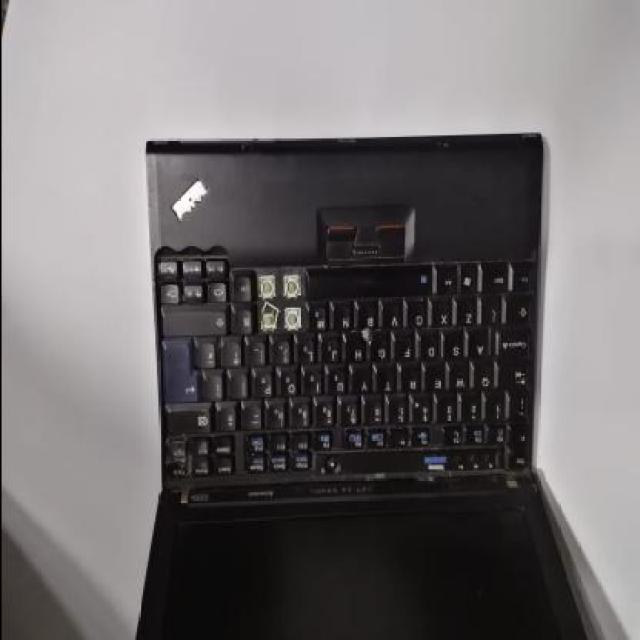Keyboard problems: (252, 268, 308, 335)
